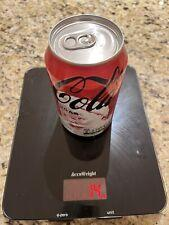metal: (45, 15, 128, 136)
